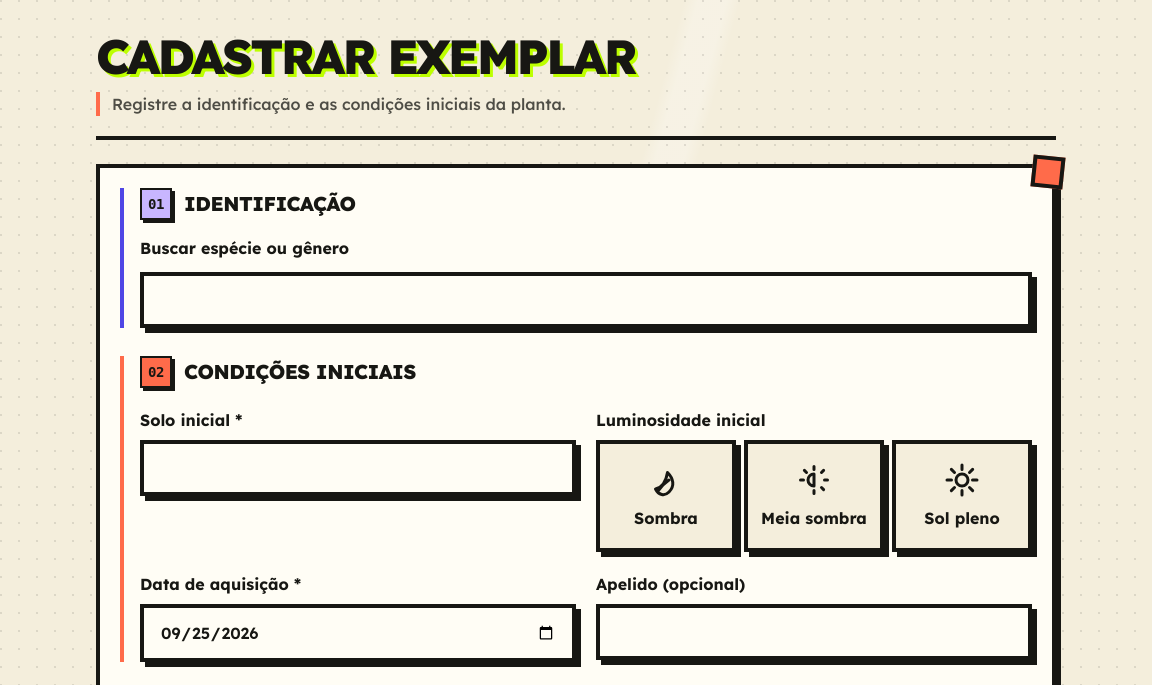
Test: SpecimenCreatePage › keeps the entered taxonomy name when local creation fails
Type "Begonia sp." into the field labelled "Buscar espécie ou gênero".
click(586, 300); type("Begonia sp.")  # box [140,272,1032,328]
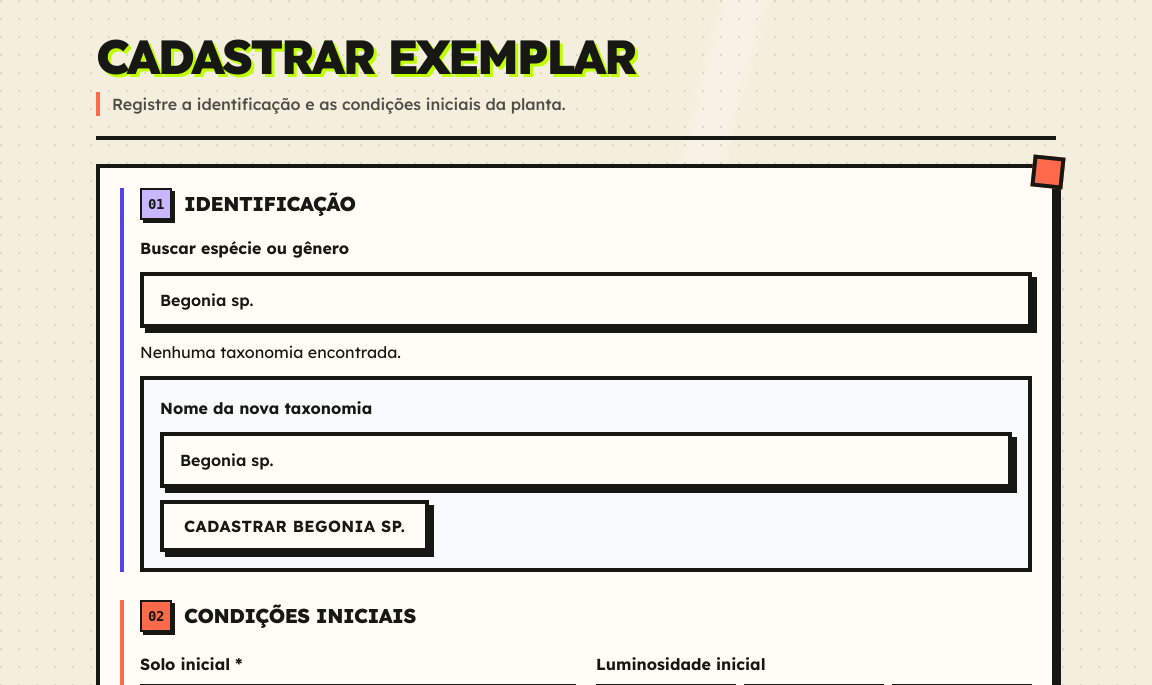
Click the button "Cadastrar Begonia sp.".
click(295, 526)  # box [160,500,429,552]
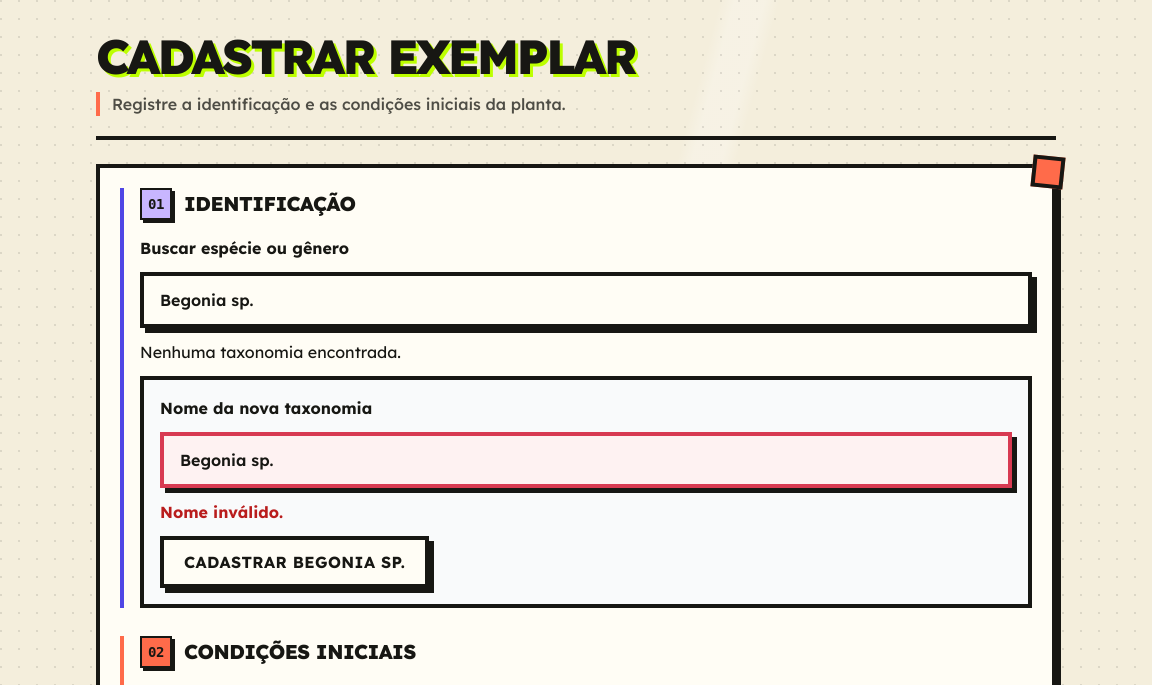
expect the text "Nome inválido." is shown: met, box [160,502,283,522]
